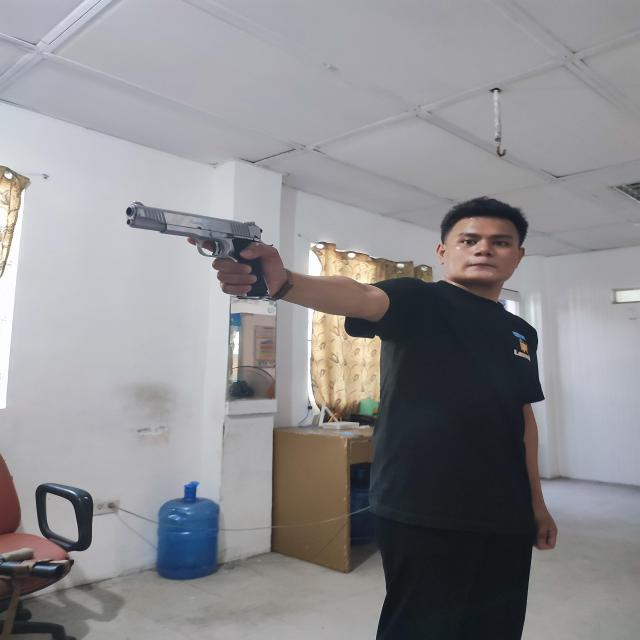pistol: (126, 201, 273, 299)
